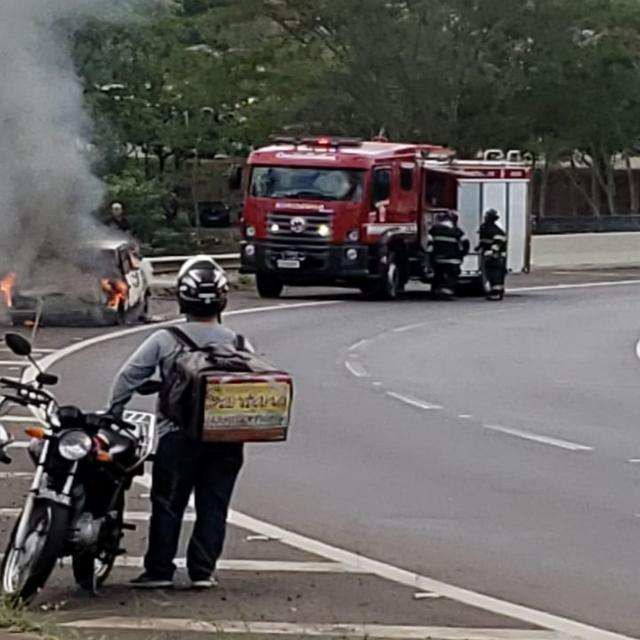Fire: (101, 278, 128, 310), (1, 272, 18, 308)
Smoke: (1, 0, 158, 328)
